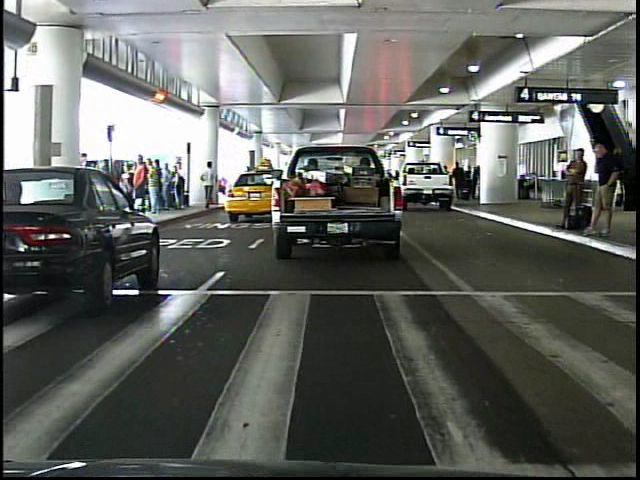person: (585, 138, 622, 240), (556, 138, 590, 237), (128, 153, 153, 218), (200, 160, 221, 211)
